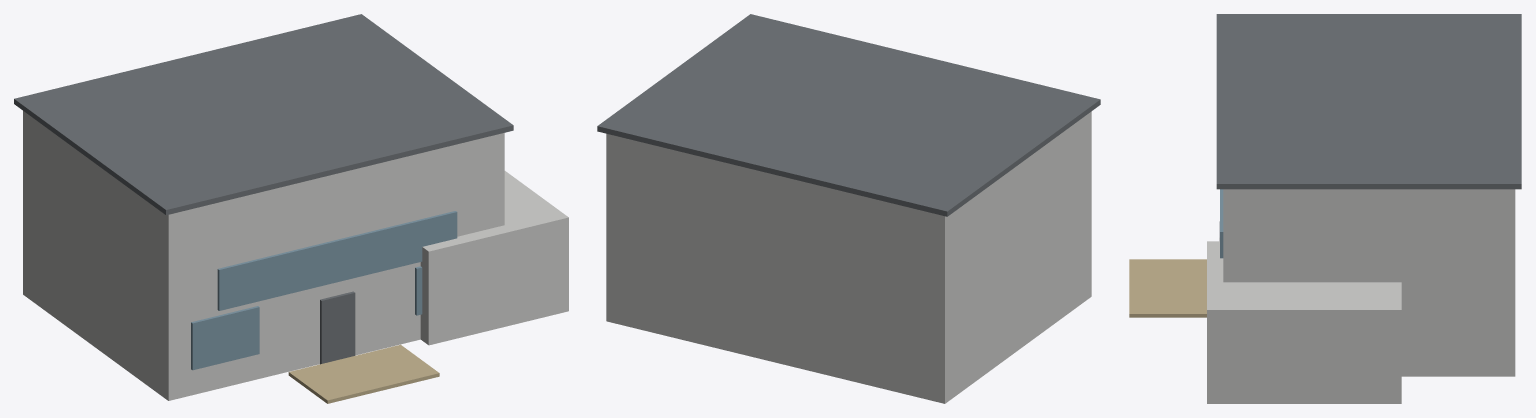
The model's file is modern-family.glb.
3 renders of one model, left to right at view 1: azimuth 30°, elevation 25°; view 2: azimuth 150°, elevation 25°; view 3: azimuth 270°, elevation 25°, orthographic.
Visible parts, largest first — view 1: HouseMassing; view 2: HouseMassing; view 3: HouseMassing.
Boxes of the visible parts, x1=… form: HouseMassing: x1=14, y1=14, x2=568, y2=403; HouseMassing: x1=597, y1=14, x2=1100, y2=403; HouseMassing: x1=1129, y1=14, x2=1521, y2=403.
Bounding box in the file's own units: 14.2 × 6.64 × 12.1.
